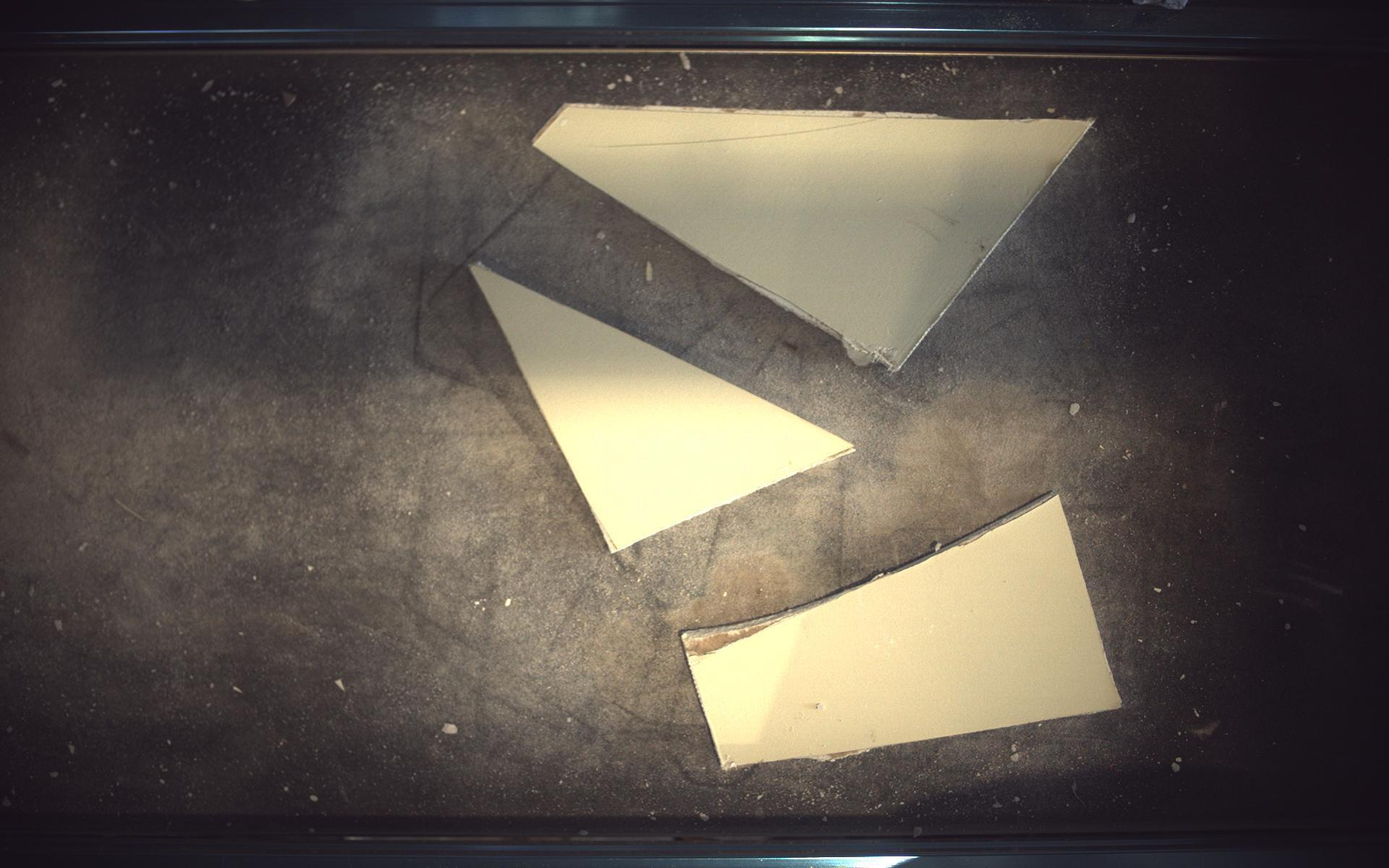gypsum_board: (534, 103, 1095, 369), (682, 493, 1123, 770), (470, 263, 855, 552)
